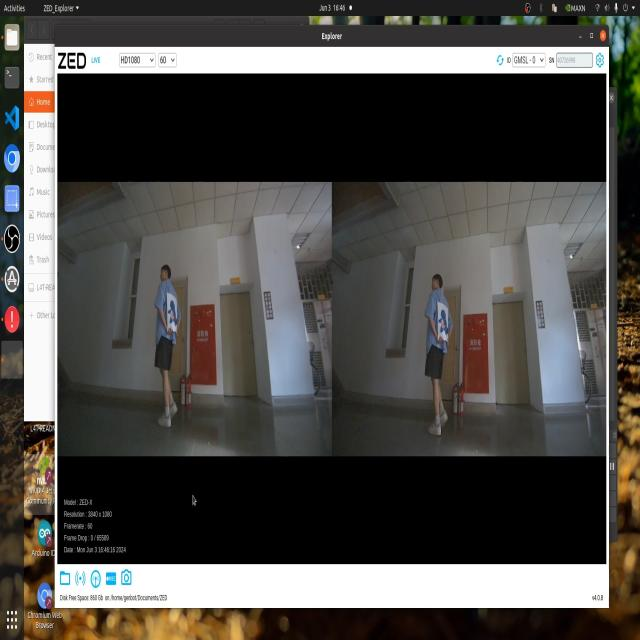blue: (164, 295, 177, 334), (433, 307, 449, 338)
